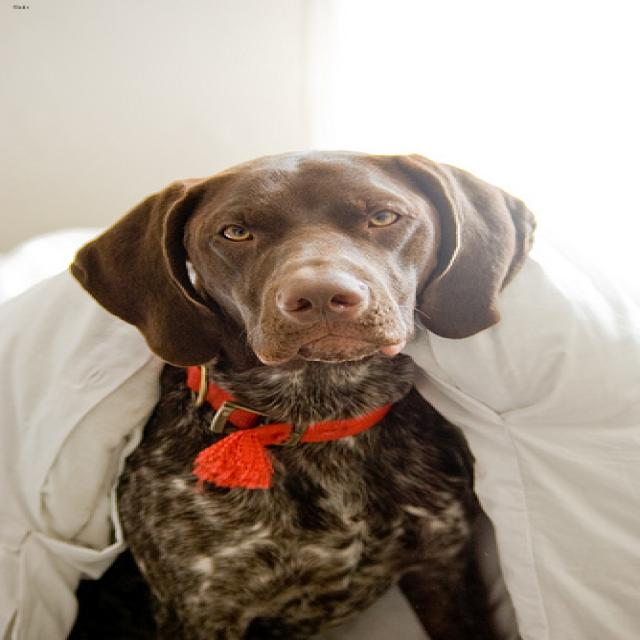dog-german_shorthaired: (48, 145, 552, 637)
